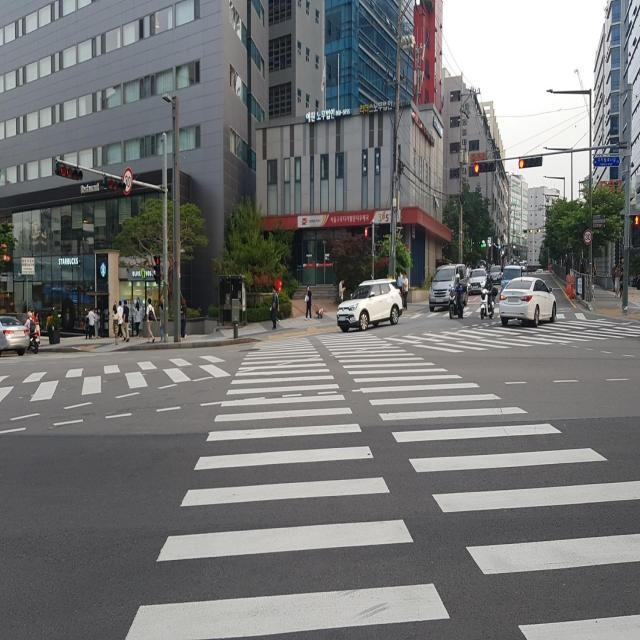빨간불: (631, 212, 640, 250), (153, 256, 161, 283)
횡단보도: (126, 335, 640, 640), (0, 349, 224, 413)
